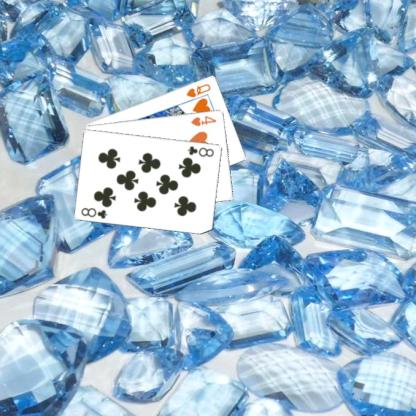4H: (188, 113, 218, 127)
8C: (186, 143, 216, 158), (78, 205, 108, 220)
QH: (184, 80, 212, 99)
